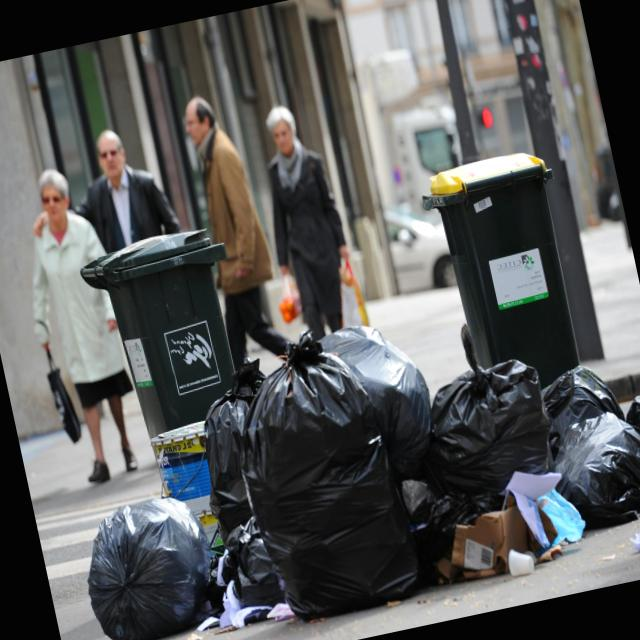garbage: (35, 240, 640, 640)
